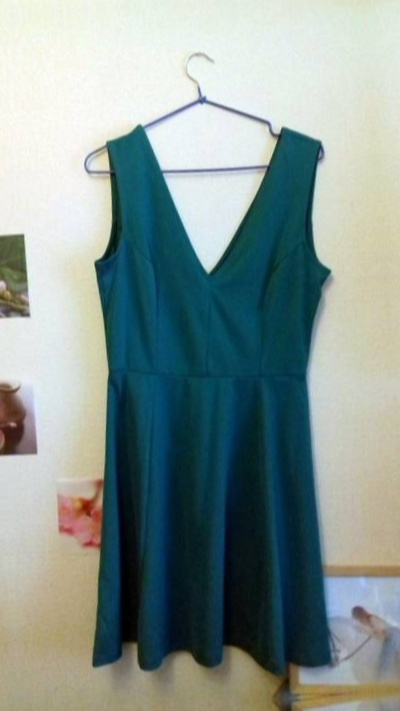Dress: (40, 80, 393, 688), (393, 52, 400, 660)
